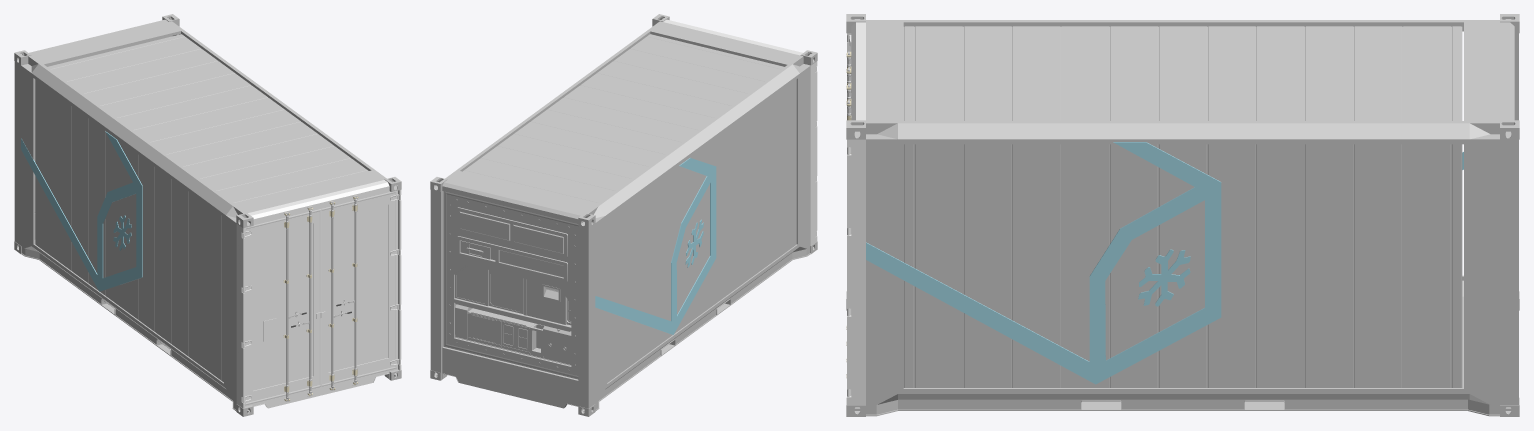
The model's file is reffer.glb.
3 views of the same model, side by side, from view 1: azimuth 30°, elevation 25°; view 2: azimuth 150°, elevation 25°; view 3: azimuth 270°, elevation 25° (orthographic). The views are drawn at different scales.
Parts seen in each view (by area): view 1: 20ft_re222234efer_cont22222ainer_b_high_cube; view 2: 20ft_re222234efer_cont22222ainer_b_high_cube; view 3: 20ft_re222234efer_cont22222ainer_b_high_cube.
Boxes of the visible parts, bbox=[...] form: 20ft_re222234efer_cont22222ainer_b_high_cube: bbox=[14, 14, 401, 416]; 20ft_re222234efer_cont22222ainer_b_high_cube: bbox=[430, 14, 817, 416]; 20ft_re222234efer_cont22222ainer_b_high_cube: bbox=[846, 14, 1519, 416].
Size of the model in its own units: 2.45 by 2.89 by 6.1.
